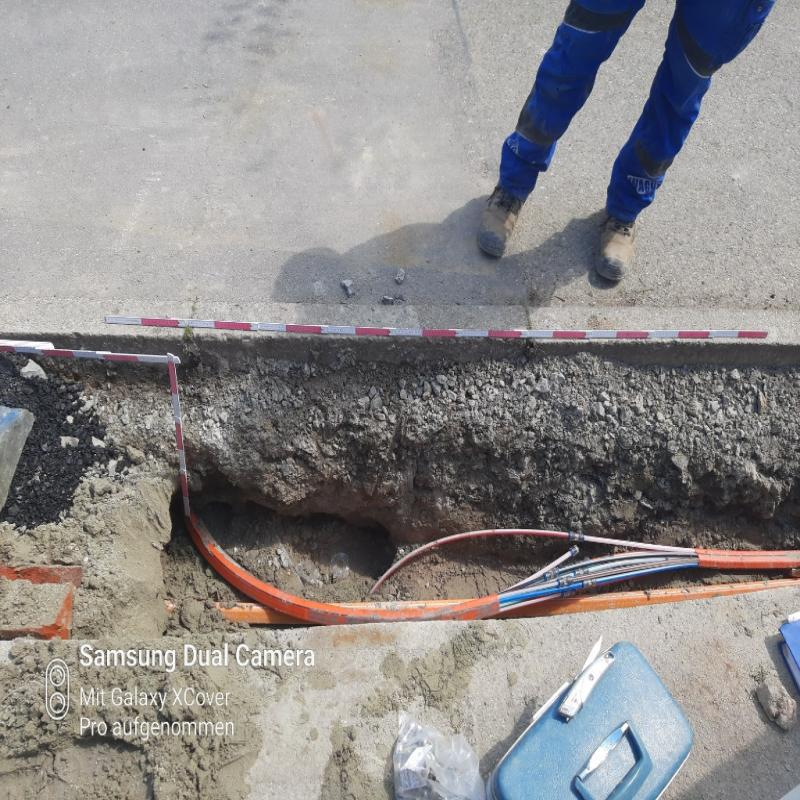Orang-Speednetrohrchen: (222, 532, 800, 625)
